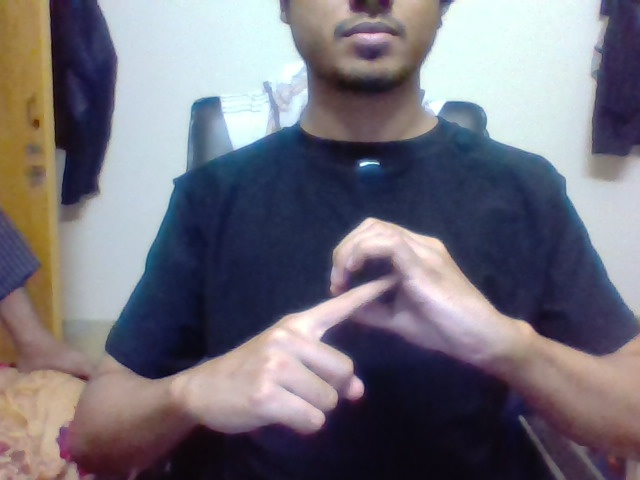Q: (335, 240, 419, 329)
